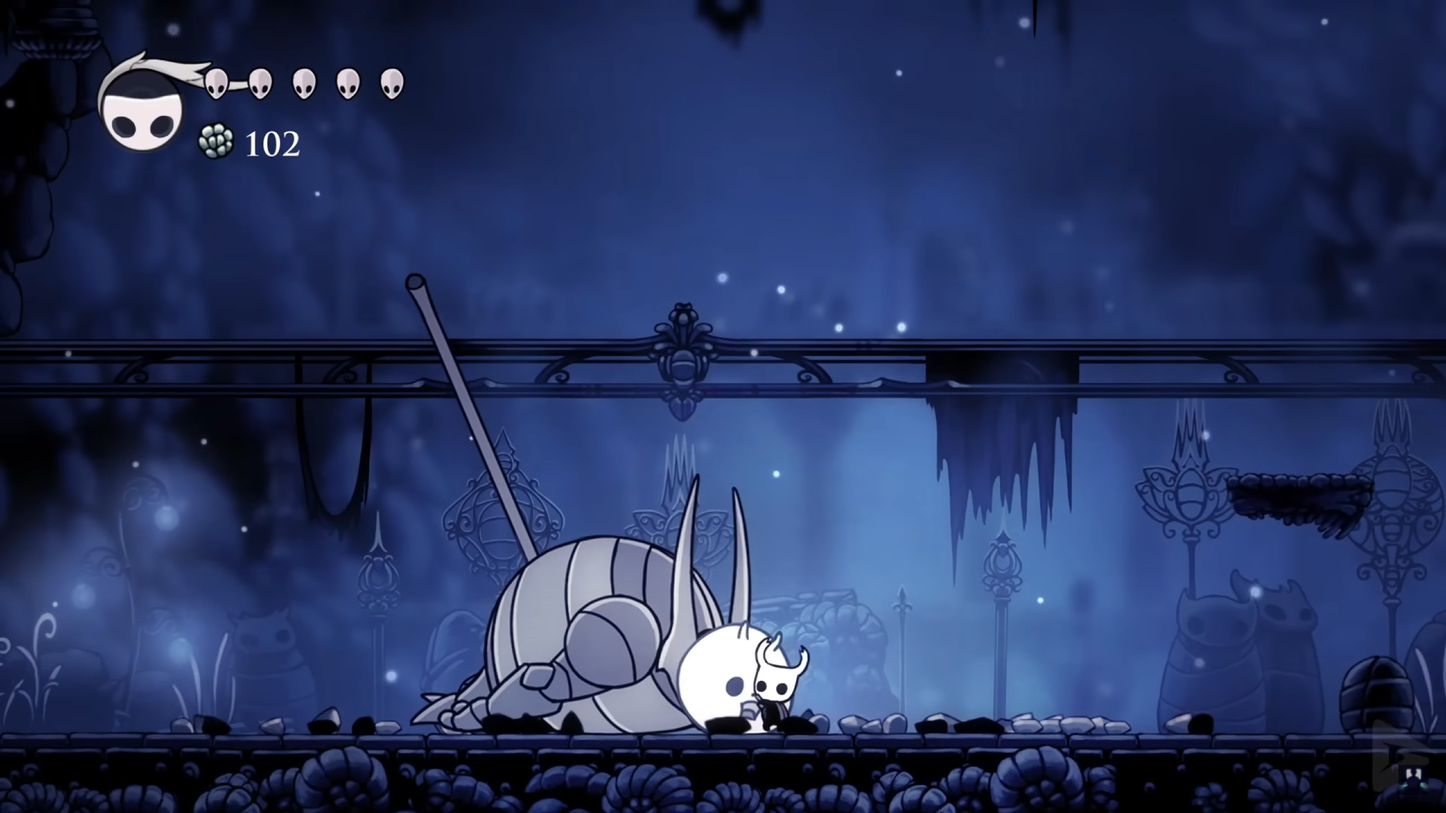HK: (746, 634, 811, 735)
